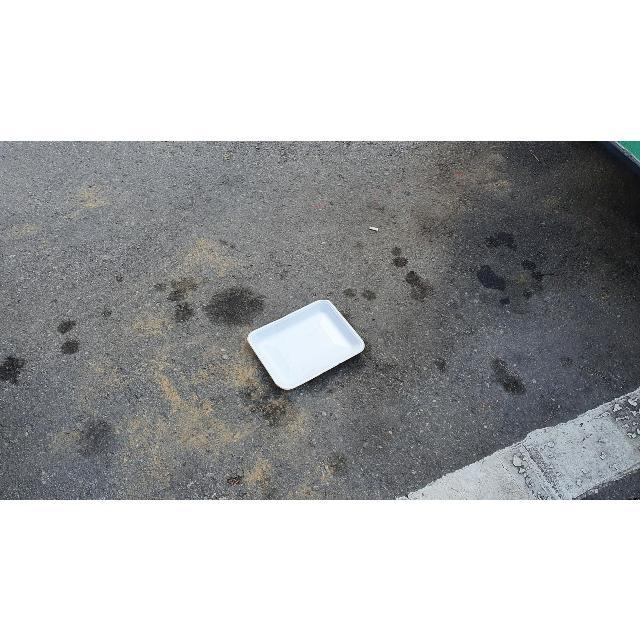Recipiente plastico: (238, 295, 368, 393)
